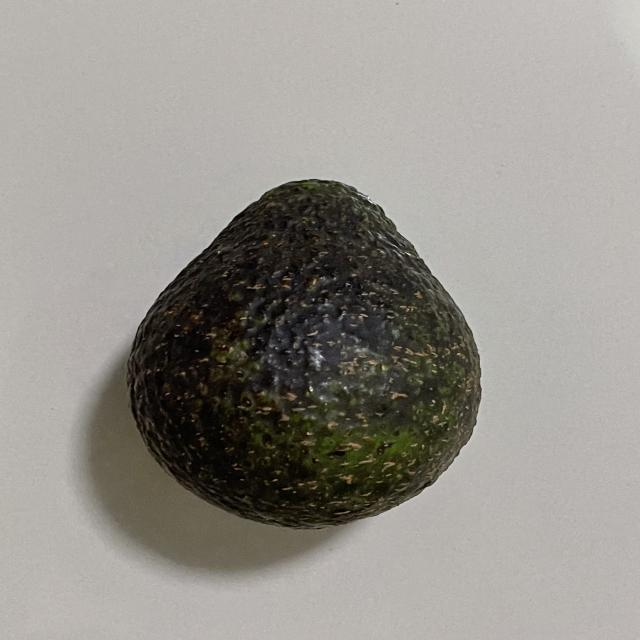Level1: (108, 162, 501, 540)
